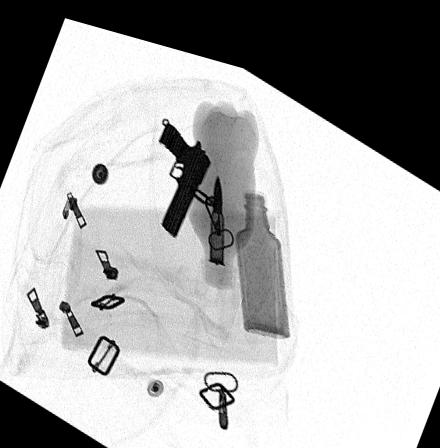Bullet: (209, 162, 224, 252)
Gun: (158, 112, 211, 228)
